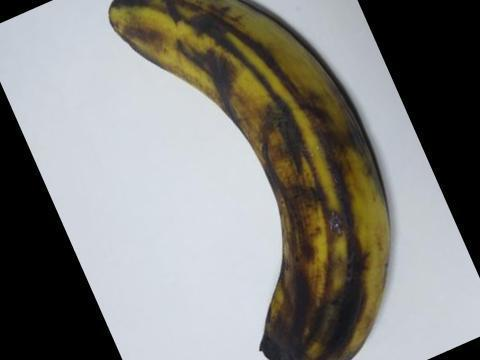overripe: (85, 0, 405, 359)
rotten: (255, 290, 381, 359)
